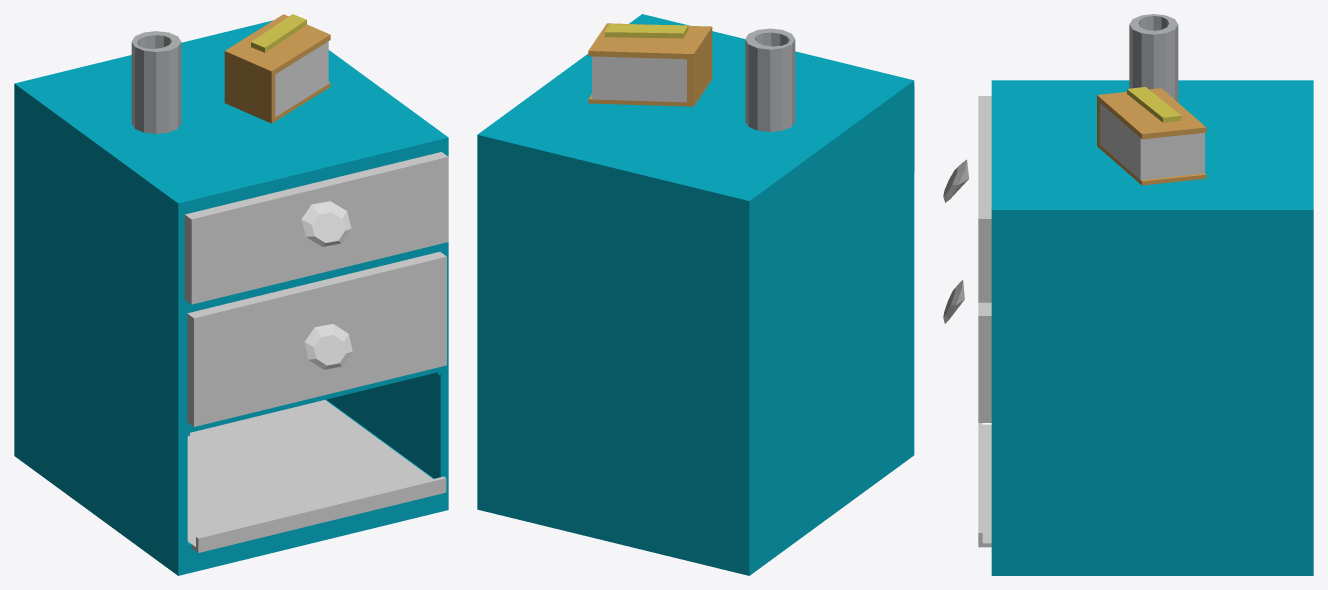
The model's file is Side Table Model.glb.
The picture shows the model from 3 angles, left to right: view 1: azimuth 30°, elevation 25°; view 2: azimuth 150°, elevation 25°; view 3: azimuth 270°, elevation 25°; orthographic projection. The views are drawn at different scales.
Visible parts, largest first — view 1: Mesh_Mesh_head_geo.001_lambert2SG.001; view 2: Mesh_Mesh_head_geo.001_lambert2SG.001; view 3: Mesh_Mesh_head_geo.001_lambert2SG.001.
Boxes of the visible parts, left/top/right/bottom form: Mesh_Mesh_head_geo.001_lambert2SG.001: left=14, top=14, right=448, bottom=575; Mesh_Mesh_head_geo.001_lambert2SG.001: left=477, top=14, right=914, bottom=575; Mesh_Mesh_head_geo.001_lambert2SG.001: left=943, top=14, right=1313, bottom=575.
Bounding box in the file's own units: 69.03 × 112 × 83.35.
